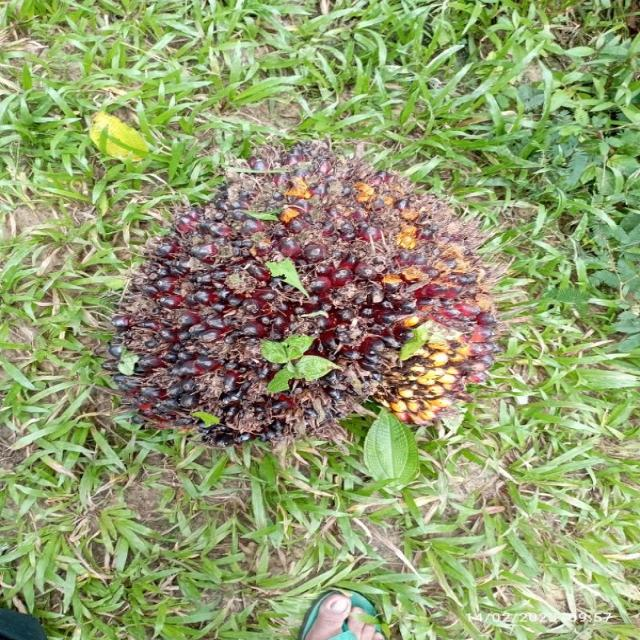fraksi 1: (114, 156, 500, 441)
